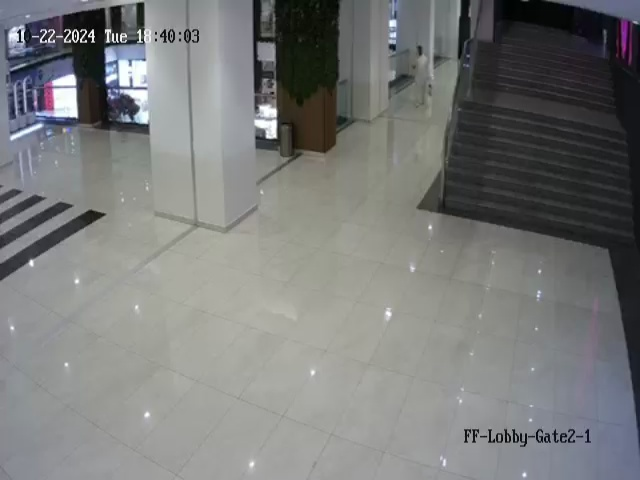male: (409, 39, 442, 121)
